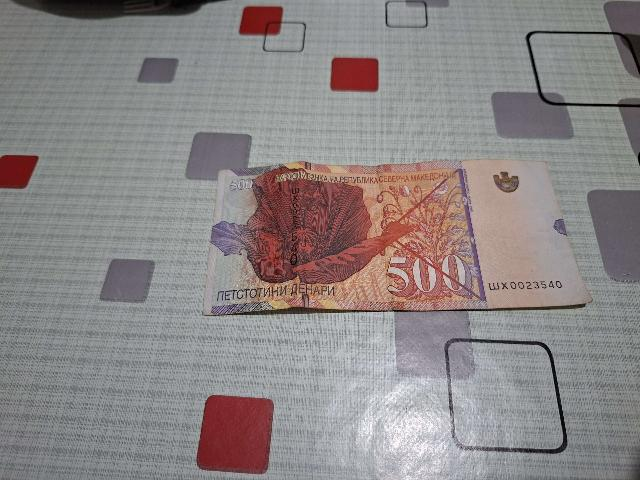500_note: (204, 160, 591, 314)
